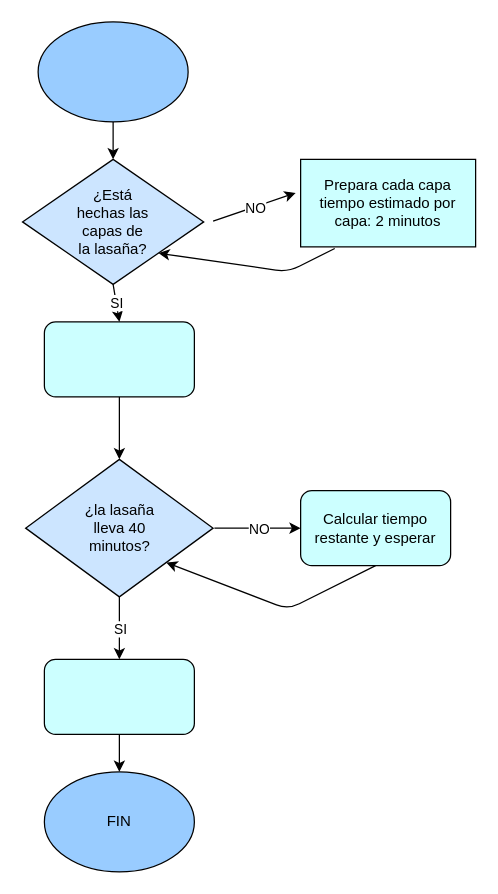
Image size: 498x894. Some labels were removed from this diagram. The shapes that lost their labels are listed below. From the top down, each one's centre as x and y in pixels, then its label:
At [112,71]: "INICIO".
At [118,359]: "METER EN EL HORNO".
At [118,696]: "Lasaña lista".
